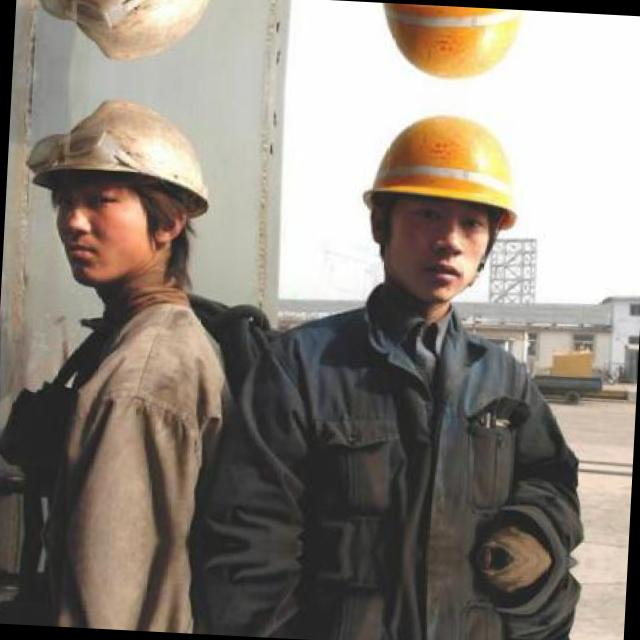helmet: (13, 86, 230, 312), (340, 101, 538, 322), (351, 2, 544, 93), (25, 0, 235, 76)
